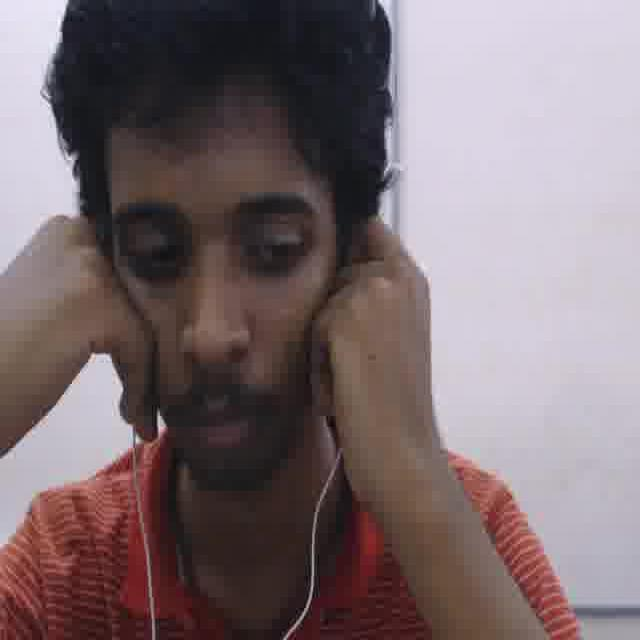Boredom: (93, 95, 337, 492)
